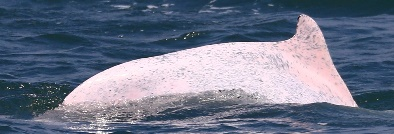fin: (45, 12, 369, 115)
